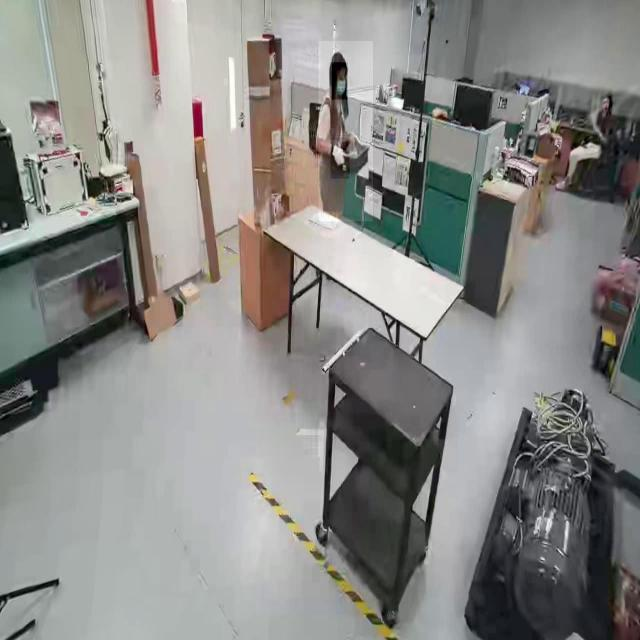gloves: (330, 138, 350, 180)
